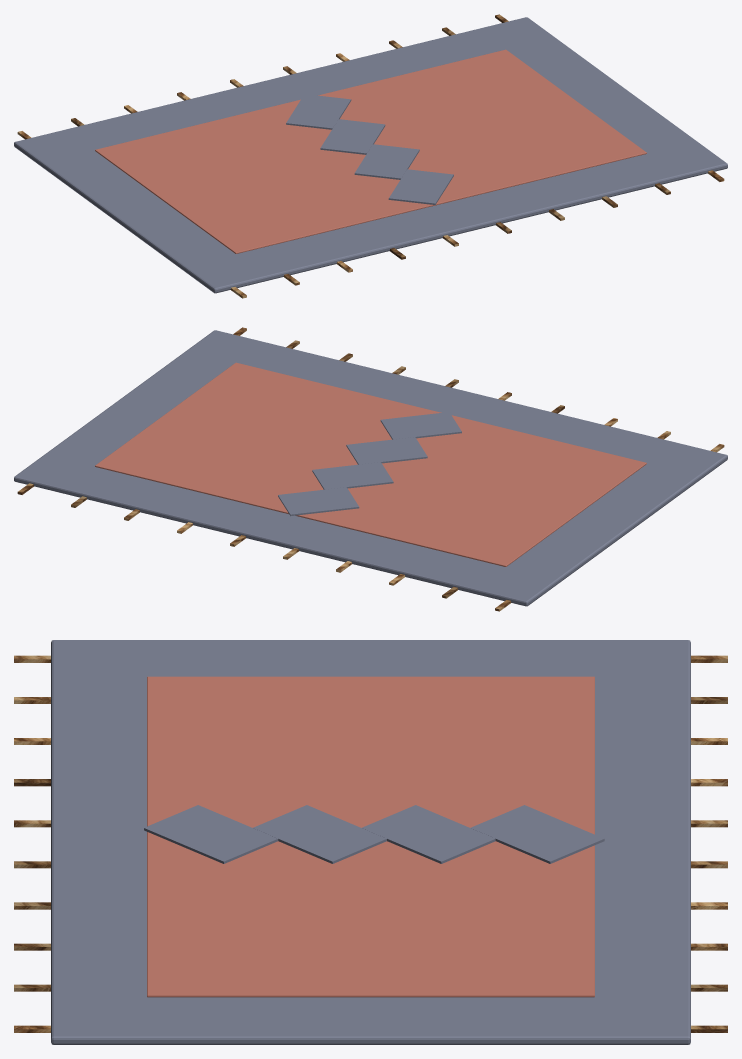
The model's file is stone_rug.glb.
3 views of the same model, one above another, from view 1: azimuth 30°, elevation 25°; view 2: azimuth 150°, elevation 25°; view 3: azimuth 270°, elevation 25° (orthographic). The views are drawn at different scales.
Parts seen in each view (by area): view 1: model; view 2: model; view 3: model.
Part boxes in pixels (x1=…): model: x1=14, y1=14, x2=727, y2=298; model: x1=14, y1=327, x2=727, y2=611; model: x1=14, y1=640, x2=727, y2=1044.
Size of the model in its own units: 1.4 by 0.022 by 1.06.
6 materials, 3 textured.
